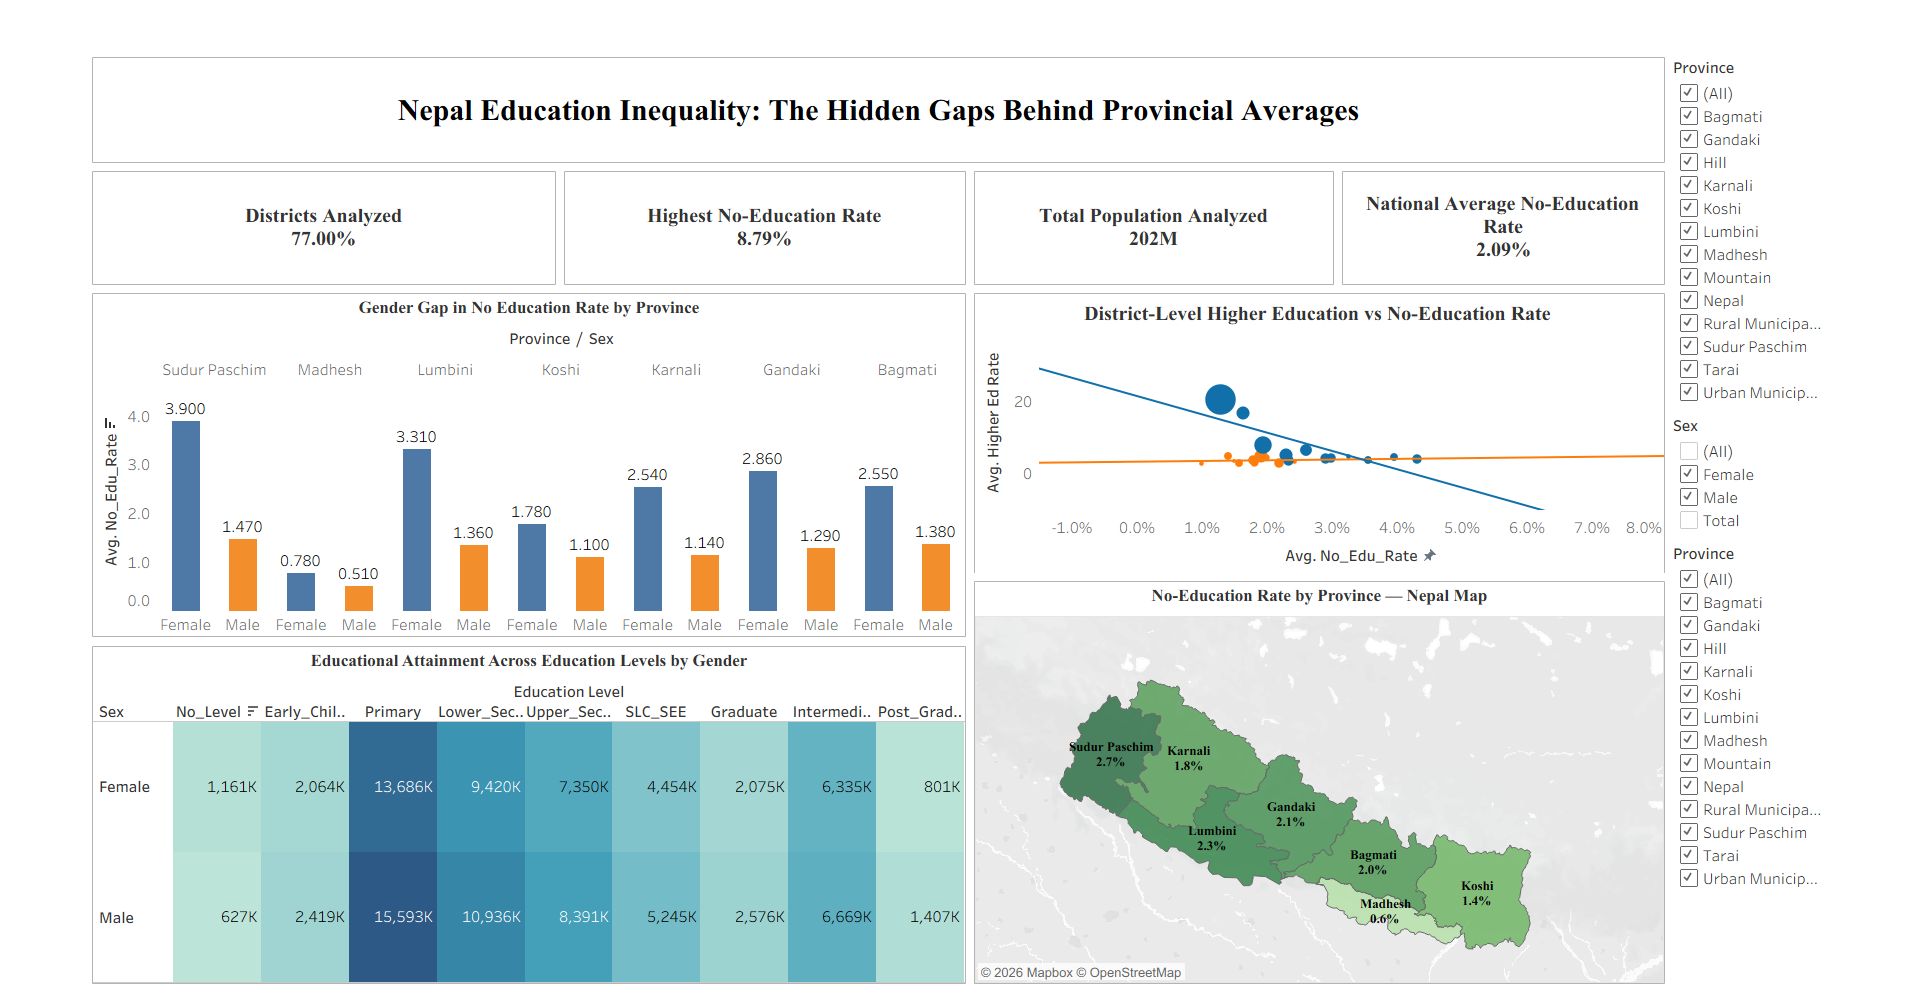

The page's visual inventory and layout, read from the dashboard file:
{"tool":"tableau","page":{"name":"Nepal Education Inequality: The Hidden Gaps Behind Provincial Averages","canvas":[1000,1000],"units":"permille","ordinal":0},"visuals":[{"type":"title","box":[4.8,9.4,893.8,134]},{"type":"filter","title":"Gender Gap in No Education Rate by Province ","param":"[federated.1ia8urk12lnhfu12fjckb0gpyfyw].[none:Province:nk]","box":[898.6,9.4,96.6,415.4]},{"type":"worksheet","title":"KPI 1 - Districts Analyzed","mark":"Automatic","box":[4.8,143.4,266.8,126]},{"type":"worksheet","title":"KPI 2 - Highest No-Education Rate","mark":"Text","box":[271.6,143.4,231.7,126]},{"type":"worksheet","title":"KPI 3 - Total Population Analyzed","mark":"Automatic","box":[503.2,143.4,208.1,125.5]},{"type":"worksheet","title":"KPI 4 - National Average No-Education Rate","mark":"Automatic","box":[711.4,143.4,187.2,125.5]},{"type":"worksheet","title":"District-Level Higher Education vs No-Education Rate ","mark":"Circle","rows":["Higher_Ed_Rate"],"cols":["No_Edu_Rate"],"box":[503.2,268.9,395.4,297.8]},{"type":"worksheet","title":"Gender Gap in No Education Rate by Province ","mark":"Bar","rows":["No_Edu_Rate"],"cols":["Province","Sex"],"box":[4.8,269.4,498.4,363.7]},{"type":"filter","title":"Educational Attainment Across Education Levels by Gender","param":"[federated.1ia8urk12lnhfu12fjckb0gpyfyw].[none:Sex:nk]","box":[898.6,424.8,96.6,150.4]},{"type":"worksheet","title":"No-Education Rate by Province — Nepal Map","mark":"Multipolygon","box":[503.2,566.7,395.4,423.9]},{"type":"filter","title":"No-Education Rate by Province — Nepal Map","param":"[federated.1ia8urk12lnhfu12fjckb0gpyfyw].[none:Province:nk]","box":[898.6,575.2,96.6,415.4]},{"type":"worksheet","title":"Educational Attainment Across Education Levels by Gender","mark":"Square","rows":["Sex"],"cols":["Education_Level"],"box":[4.8,633.1,498.4,357.5]}]}

Visuals, with their boxes on the dashboard's canvas, which has no fixed pixel size, in thousandths of its width and height (x1, y1, x2, y2). These are canvas units, not pixel positions in the 1918x985 screenshot, which may show the page scaled, cropped or inside an application window:
title: (5, 9, 899, 143)
"Gender Gap in No Education Rate by Province " filter: (899, 9, 995, 425)
"KPI 1 - Districts Analyzed" worksheet: (5, 143, 272, 269)
"KPI 2 - Highest No-Education Rate" worksheet (Text marks): (272, 143, 503, 269)
"KPI 3 - Total Population Analyzed" worksheet: (503, 143, 711, 269)
"KPI 4 - National Average No-Education Rate" worksheet: (711, 143, 899, 269)
"District-Level Higher Education vs No-Education Rate " worksheet (Circle marks): (503, 269, 899, 567)
"Gender Gap in No Education Rate by Province " worksheet (Bar marks): (5, 269, 503, 633)
"Educational Attainment Across Education Levels by Gender" filter: (899, 425, 995, 575)
"No-Education Rate by Province — Nepal Map" worksheet (Multipolygon marks): (503, 567, 899, 991)
"No-Education Rate by Province — Nepal Map" filter: (899, 575, 995, 991)
"Educational Attainment Across Education Levels by Gender" worksheet (Square marks): (5, 633, 503, 991)
